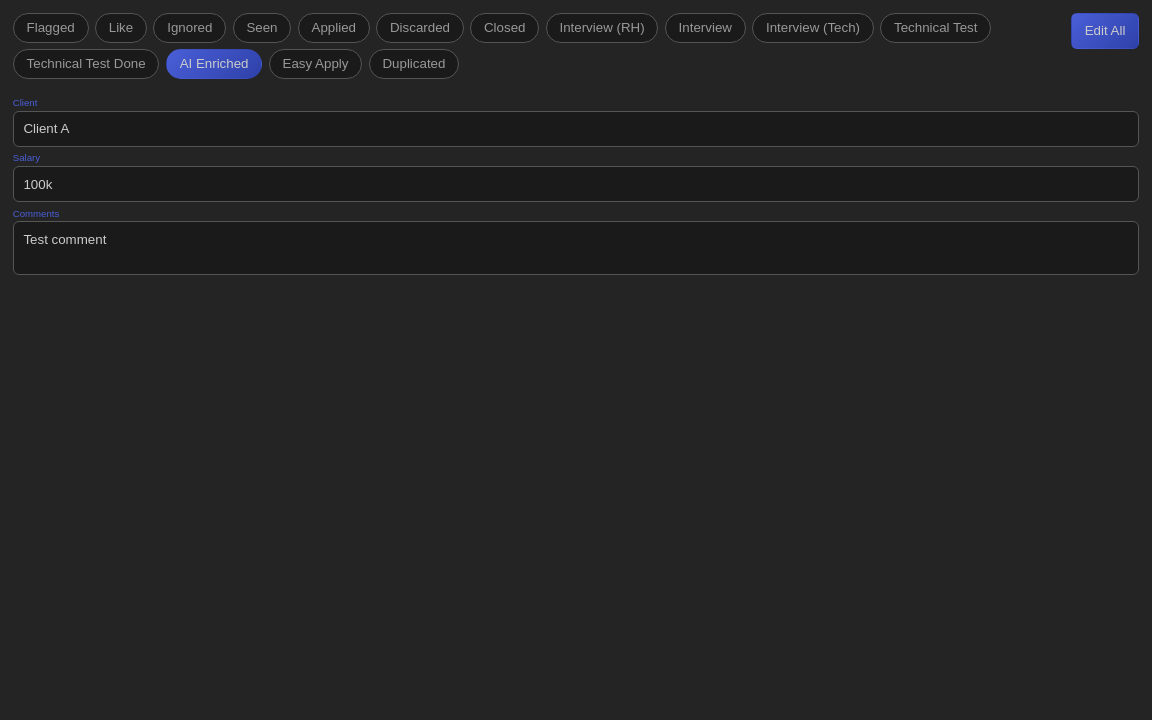
it: JobEditForm › toggles visibility of advanced fields
Check: the field labelled "Title *" is not shown
Click the button "Edit All". click: click(1105, 31)
box: [1071, 13, 1139, 49]
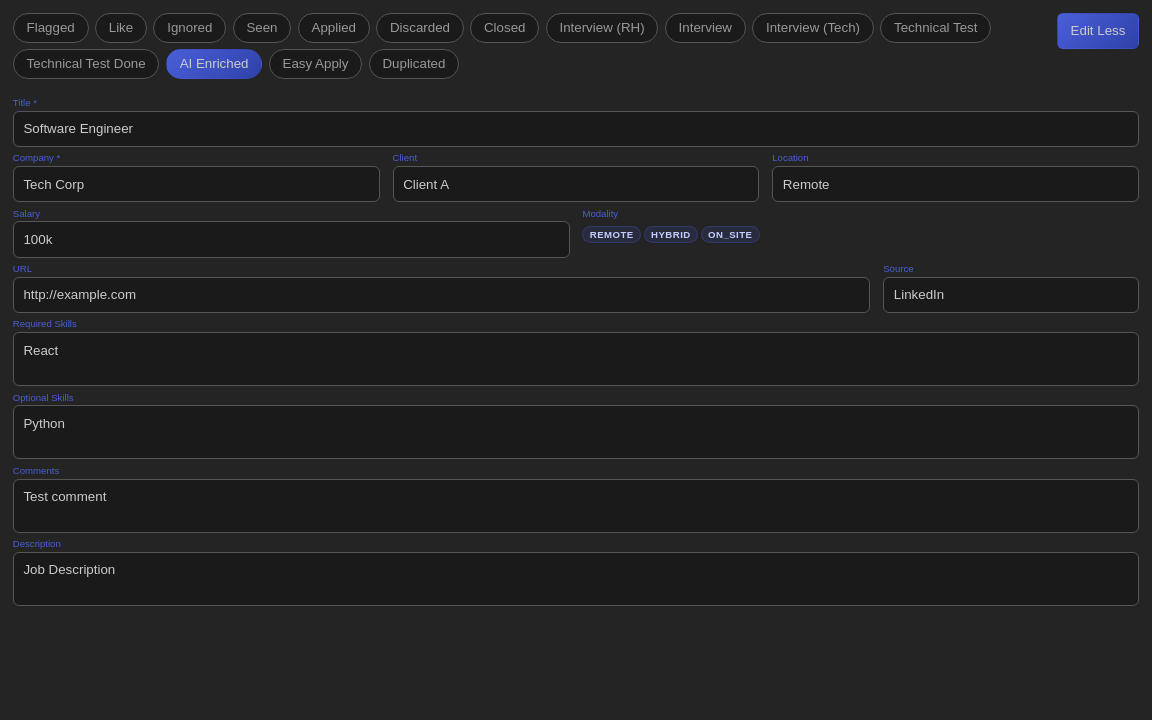
Check: the field labelled "Title *" is shown, box [13, 111, 1139, 147]
Check: the button "Edit Less" is shown
Click the button "Edit Less". click: click(1098, 31)
box: [1057, 13, 1139, 49]
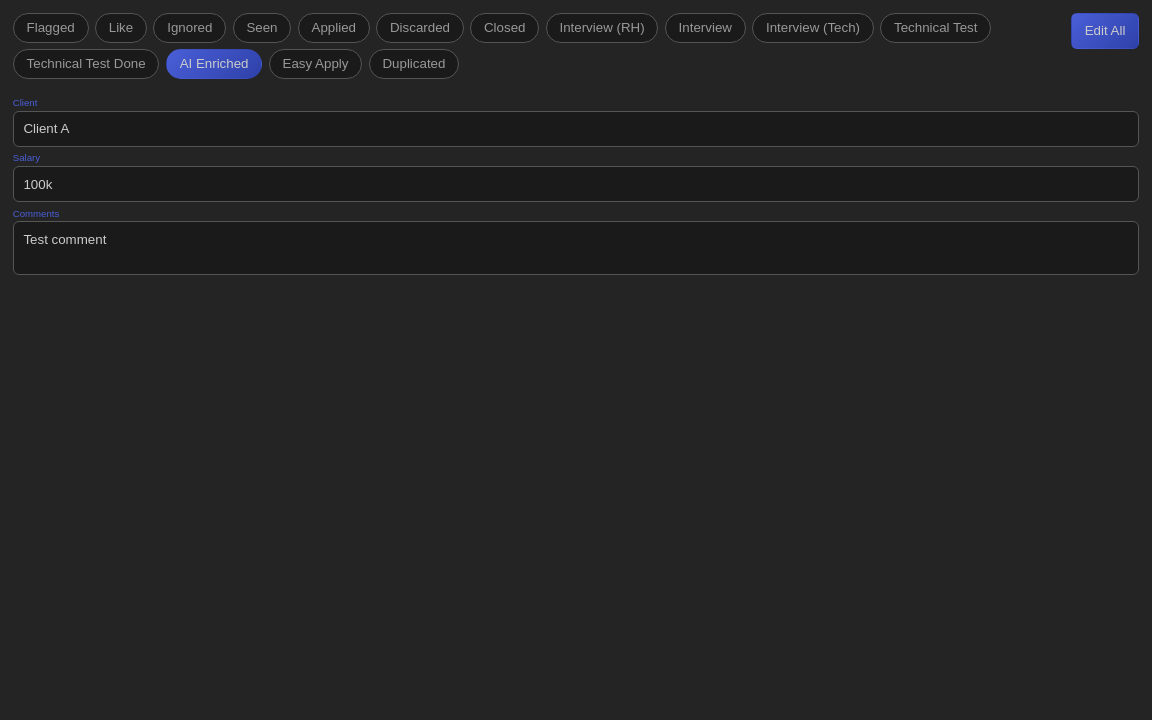
Check: the label labelled "Title *" is gone
